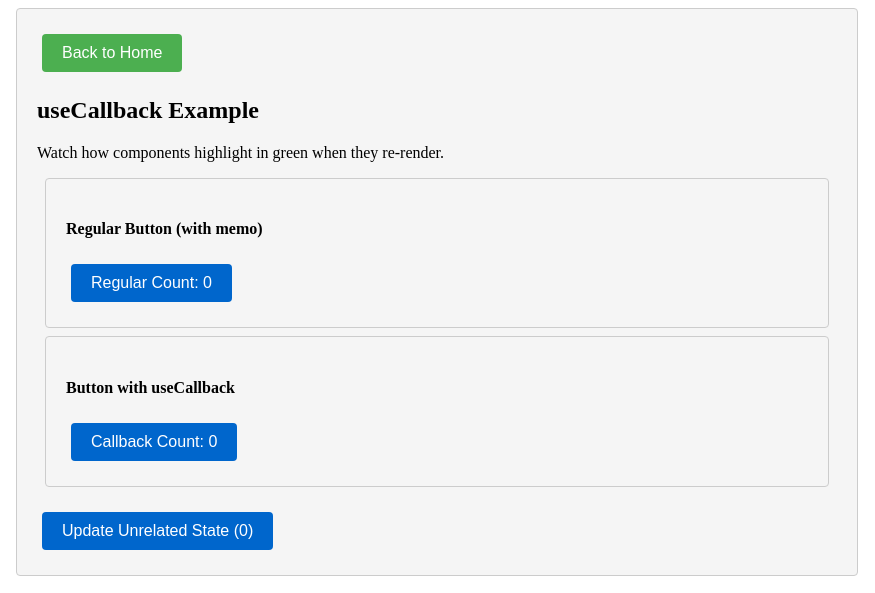
Test: CallbackExample › increments count A when RegularButton is clicked
Click the button "Regular Count: 0": (152, 283) [71,264,232,302]
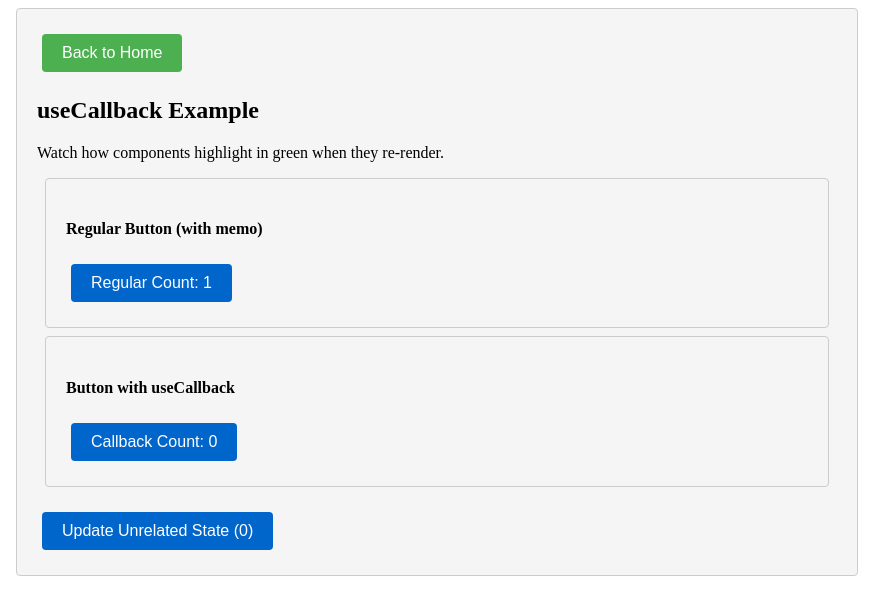
Check: the button "Regular Count: 1" is shown, box [71,264,232,302]
